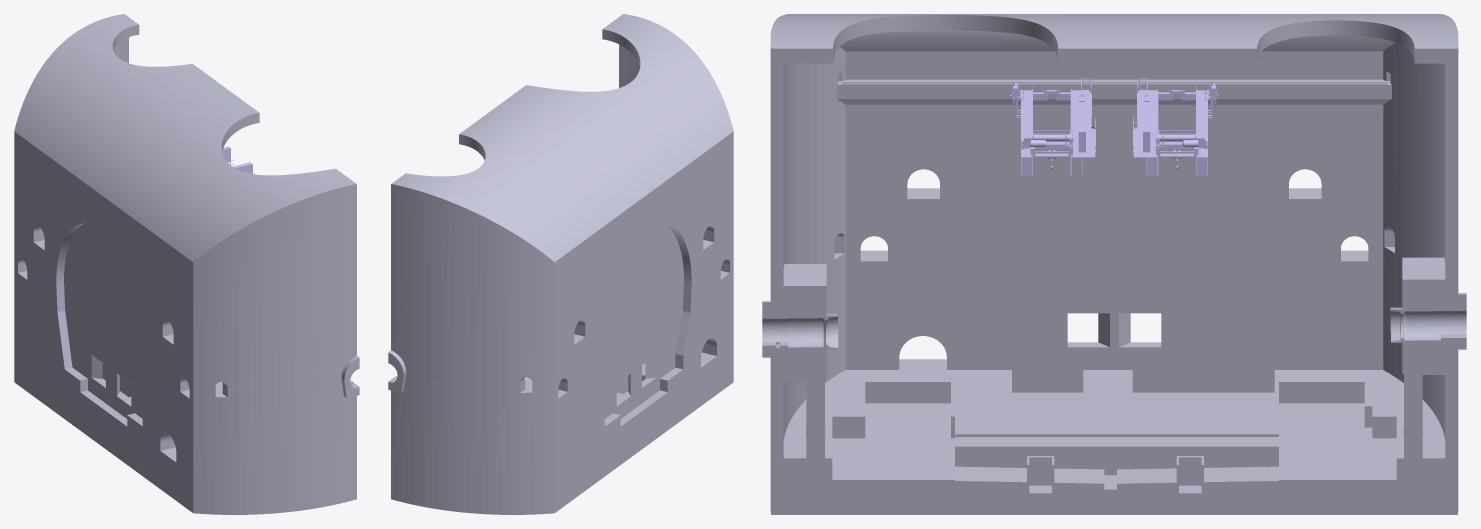
The model's file is UX15-cut2.glb.
3 views of the same model, side by side, from view 1: azimuth 30°, elevation 25°; view 2: azimuth 150°, elevation 25°; view 3: azimuth 270°, elevation 25° (orthographic). The views are drawn at different scales.
Parts seen in each view (by area): view 1: null; view 2: null; view 3: null.
Boxes of the visible parts, x1,y1,x2,y2 form: null: (14,14,359,514); null: (388,14,733,514); null: (762,14,1466,514).
Size of the model in its own units: 18.7 by 41.2 by 56.3.
